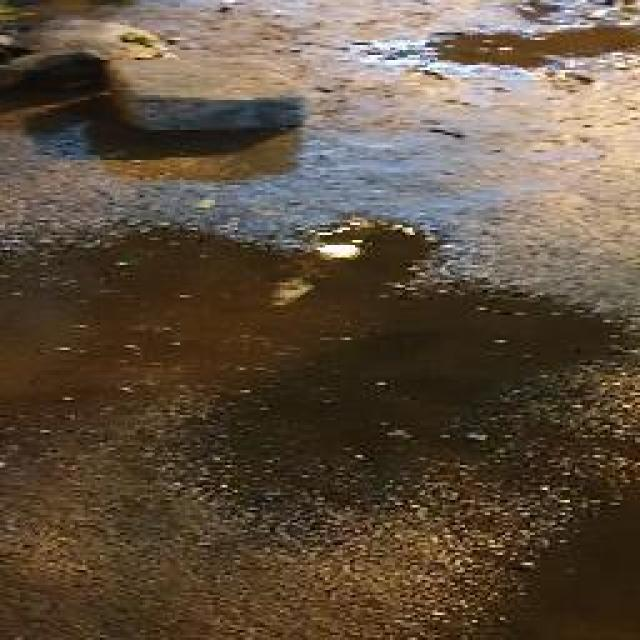puddle: (1, 214, 604, 490), (418, 18, 640, 75)
